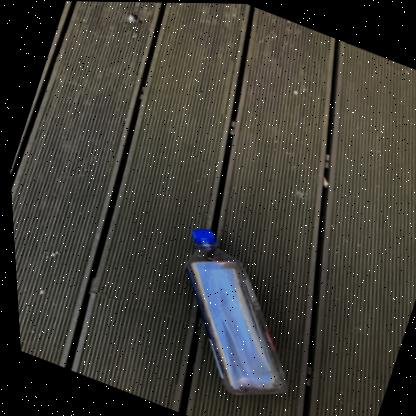Plastic: (182, 228, 283, 394)
